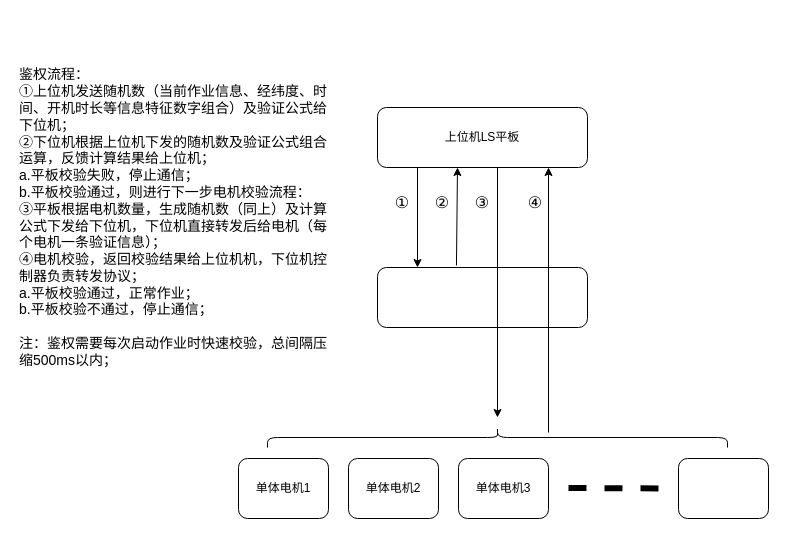
This 786x536 diagram has some shape labels left out. The shapes that lost their labels are listed below. From the top down, each one's box as (x1, y1, x2, y2) in pixels, then its label:
(376, 266, 588, 328): 下位机LS控制器
(678, 458, 768, 518): 单体电机18
